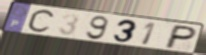1: (140, 21, 158, 46)
3: (111, 18, 139, 44), (58, 13, 82, 37)
9: (85, 15, 111, 41)
C: (25, 8, 57, 35)
P: (162, 24, 199, 50)
